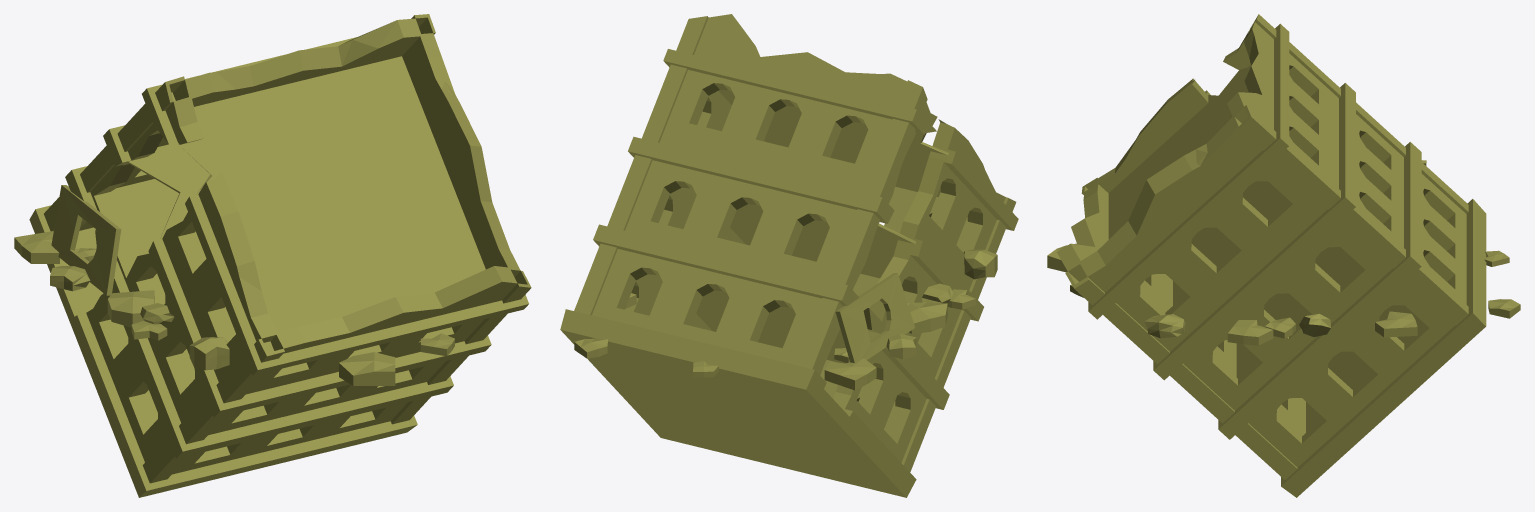
File: tower-2.fbx
3 renders of one model, left to right at view 1: azimuth 30°, elevation 25°; view 2: azimuth 150°, elevation 25°; view 3: azimuth 270°, elevation 25°, orthographic. The views are drawn at different scales.
Parts seen in each view (by area): view 1: Cube.002; view 2: Cube.002; view 3: Cube.002.
Boxes of the visible parts, x1,y1,x2,y2 form: Cube.002: (14, 14, 531, 497); Cube.002: (560, 14, 1018, 497); Cube.002: (1047, 14, 1520, 497).
Size of the model in its own units: 583 by 711 by 787.
